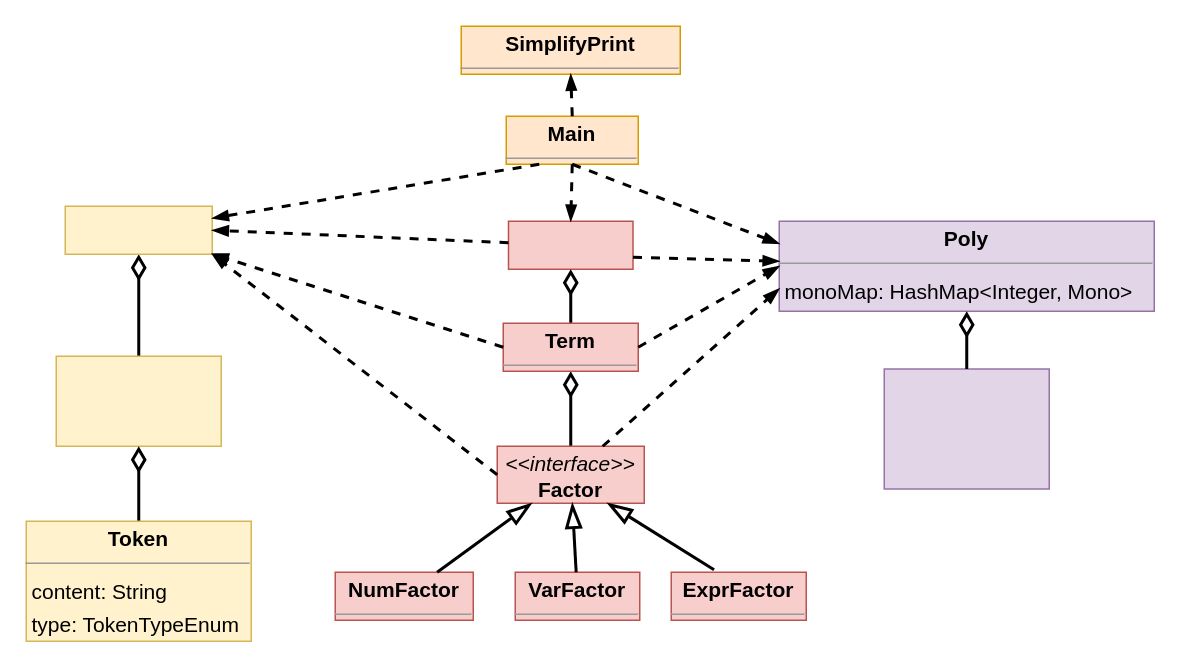
Image size: 1181x668. Some labels were removed from this diagram. Here are the shapes that lost their labels. From the top down, the centre of each, then its label:
At point (138, 229): "Parser".
At point (570, 244): "Expr".
At point (138, 400): "Lexer curToken: Token".
At point (966, 428): "Mono coe: BigInteger exp: int".
